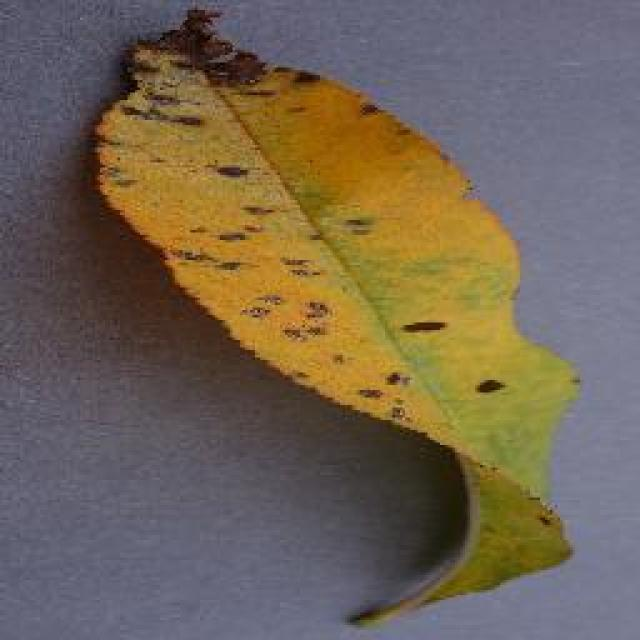Peach_Bacterial_Spot: (96, 0, 538, 428)
